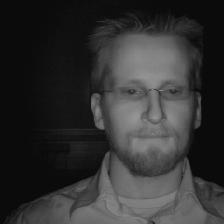normal: (81, 6, 216, 181)
